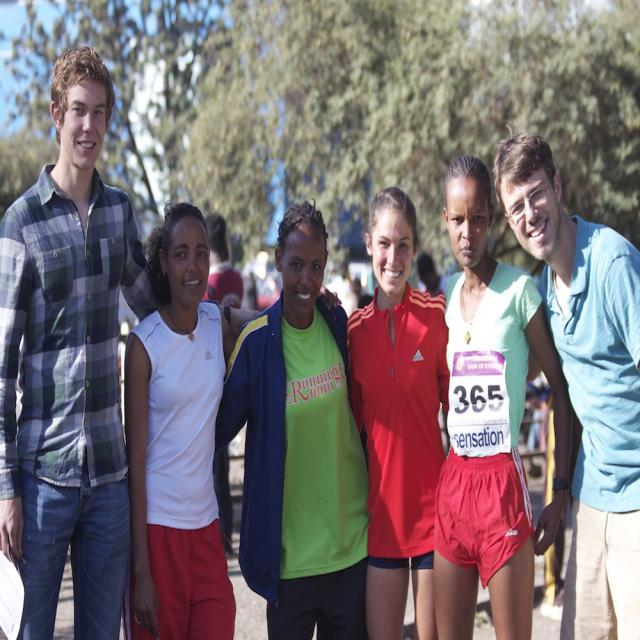body: (0, 43, 266, 640), (118, 195, 345, 639), (484, 115, 639, 639), (211, 195, 373, 639), (430, 149, 576, 640), (343, 183, 453, 640), (227, 210, 450, 306), (199, 211, 246, 558), (522, 376, 581, 608)
